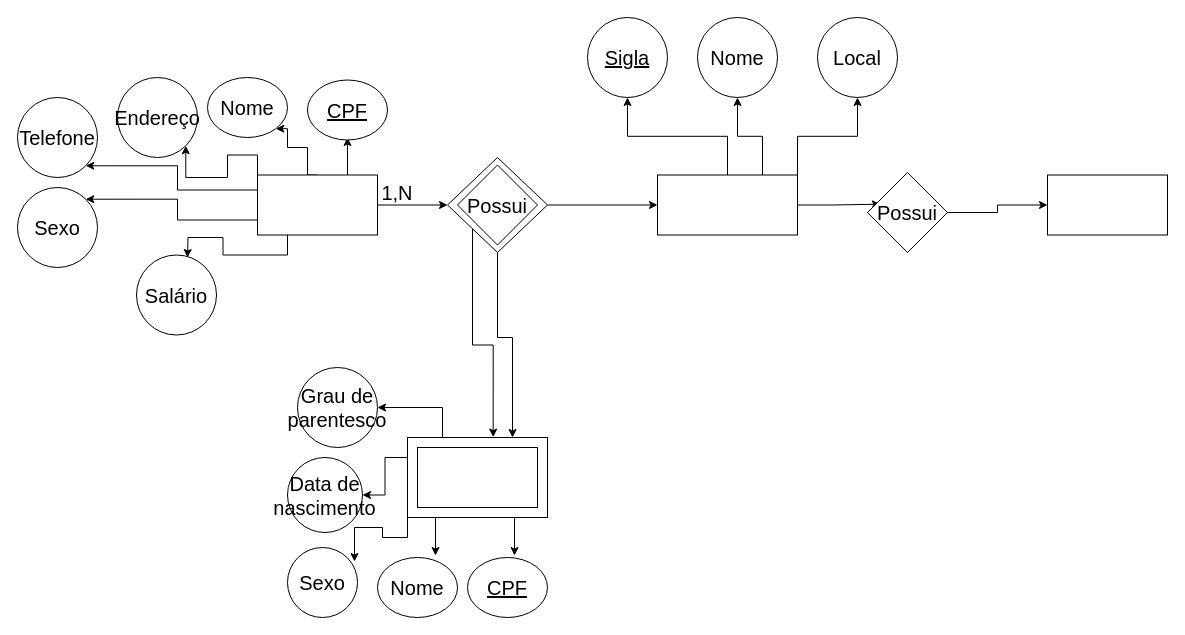
Some shapes in this 1185 by 635 pixel diagram are drawn without their labels. Each missing label, with the centre of its shape:
Departamento: the point at 727,204
Dependente: the point at 477,477
Funcionário: the point at 317,204
Projeto: the point at 1107,204
